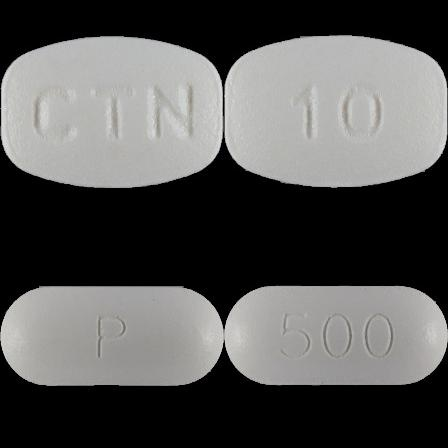75921-402: (0, 0, 224, 224)
